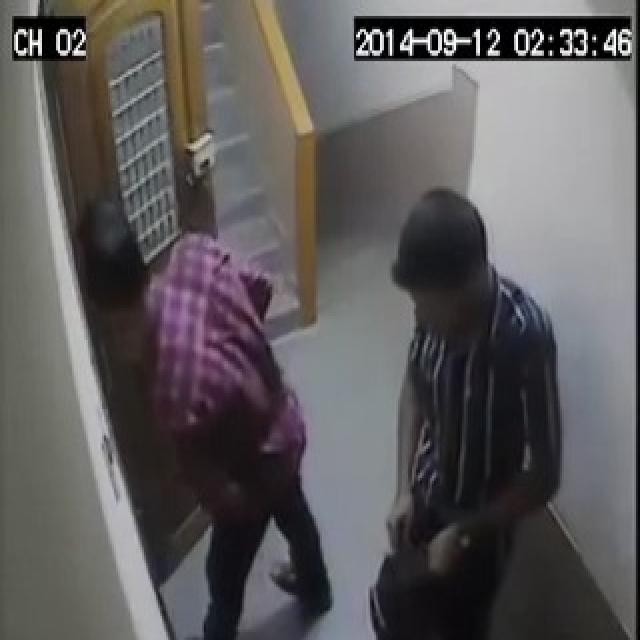burglary: (63, 229, 280, 521)
